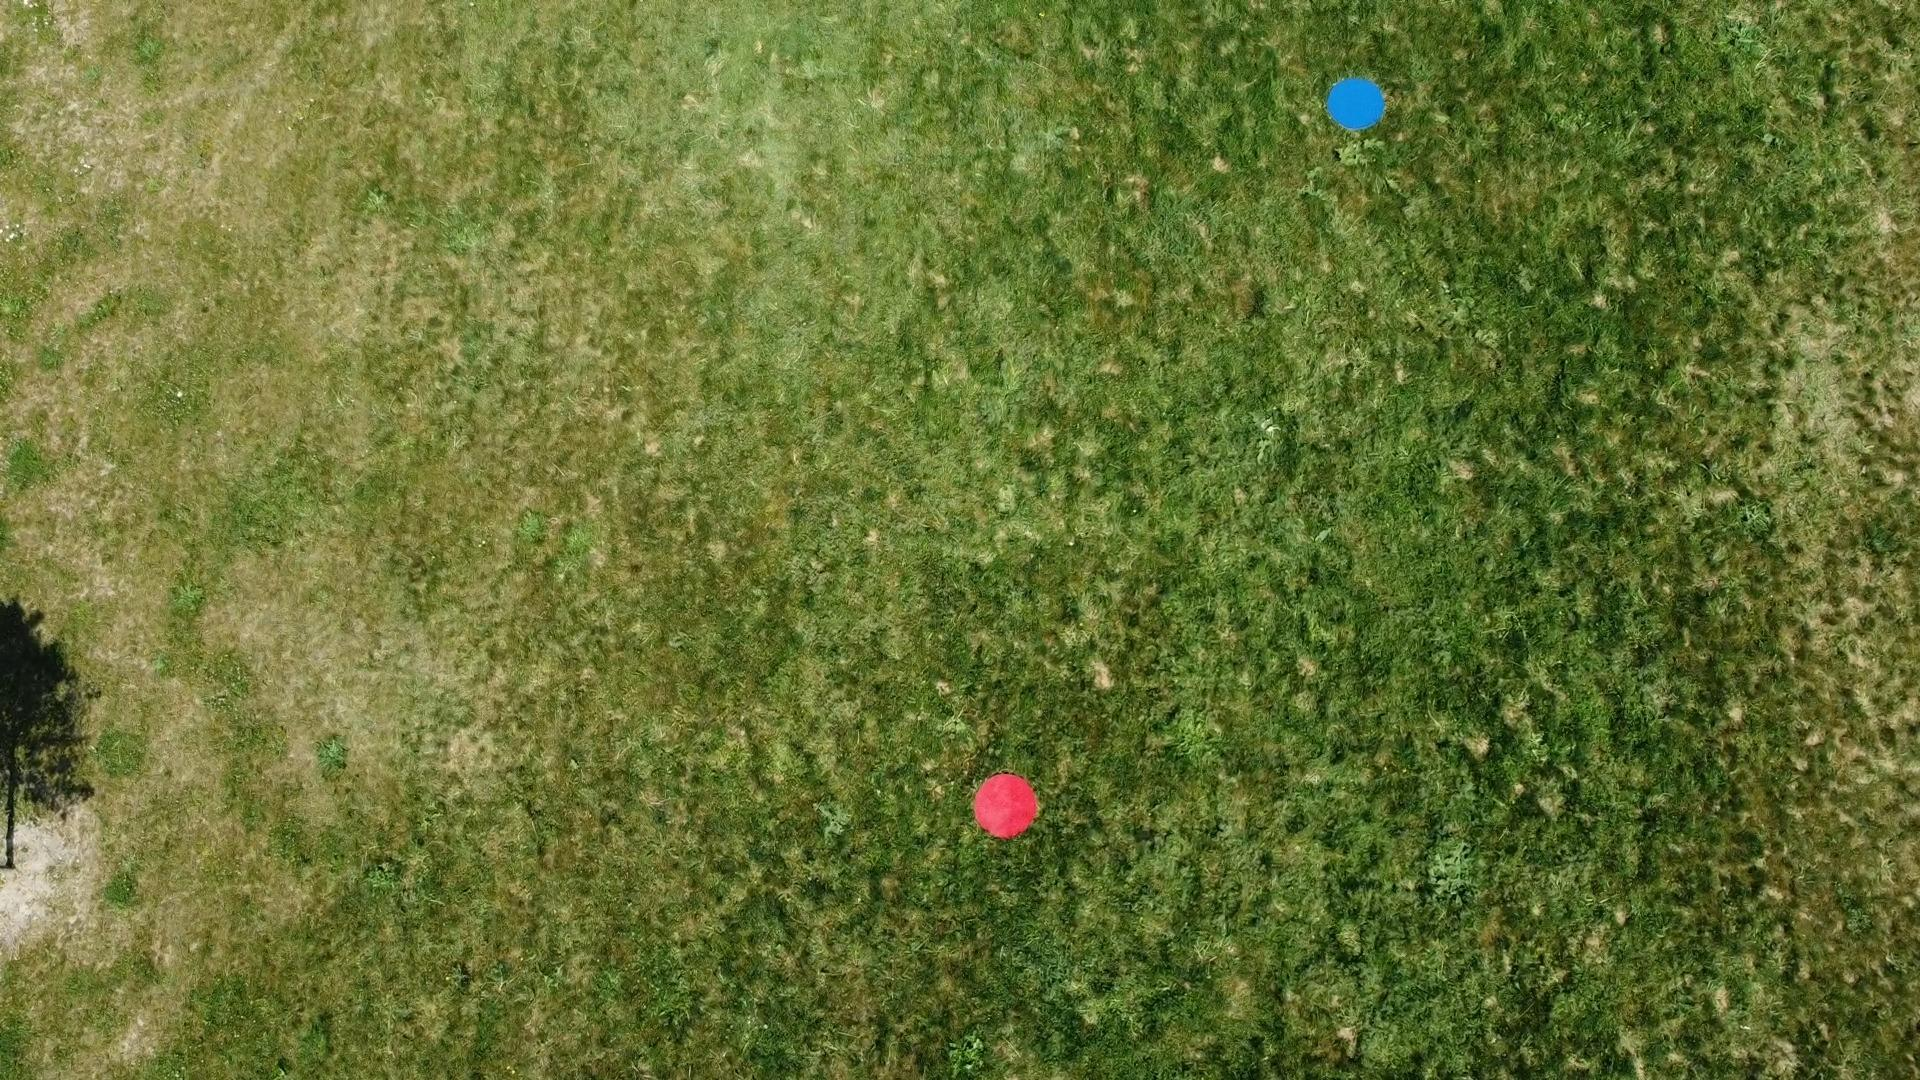Blue: (1324, 74, 1389, 132)
Red: (971, 770, 1042, 840)
